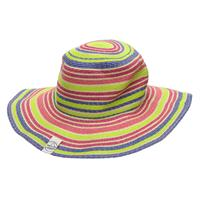hat: (8, 38, 192, 159)
